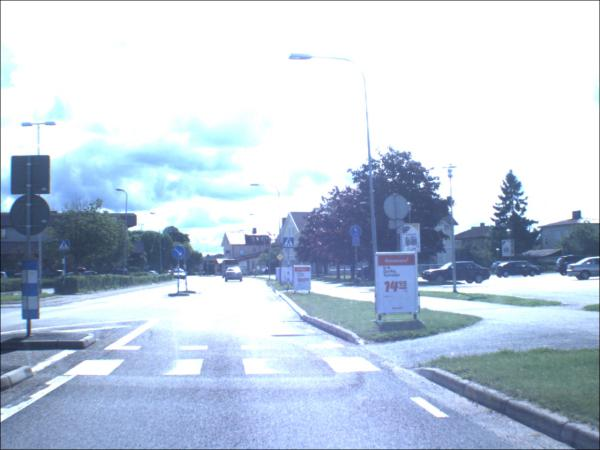PASS_RIGHT_SIDE: (173, 247, 187, 261)
PEDESTRIAN_CROSSING: (60, 241, 72, 253), (285, 239, 296, 251)
PRIORITY_ROAD: (277, 254, 286, 263)
